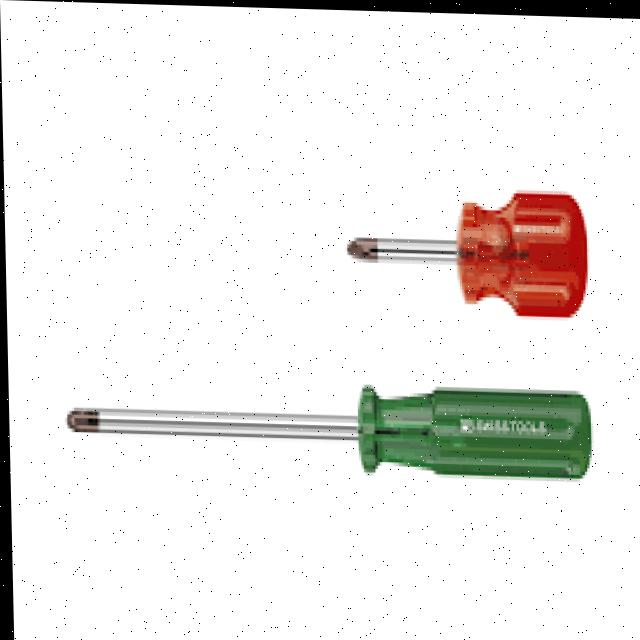Screwdriver: (65, 384, 589, 474), (347, 189, 586, 313)
